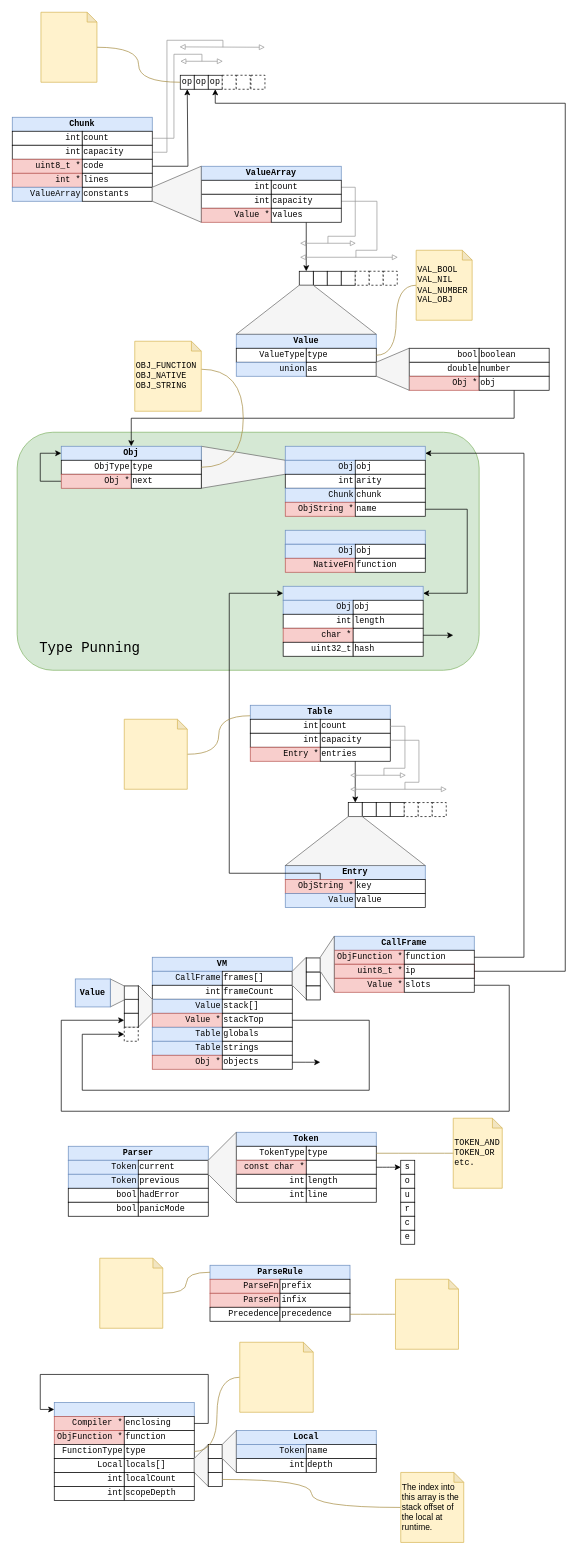
The diagram is 583 pixels wide and 1555 high, and some of its shapes have lost their labels. Here are the shapes that lost their labels. From the top down, the centre of each, then its label:
pixel 68 47: OP_ADD OP_POP OP_RETURN etc.
pixel 355 453: ObjFunction
pixel 355 537: ObjNative
pixel 352 593: ObjString
pixel 387 635: chars
pixel 155 754: Gerneral purpose hash table
pixel 341 1167: start
pixel 131 1293: An array of these compises the Pratt Parser, indexed by token.
pixel 426 1314: PREC_TERM PREC_FACTOR etc.
pixel 276 1377: TYPE_FUNCTION TYPE_SCRIPT
pixel 124 1409: Compiler
